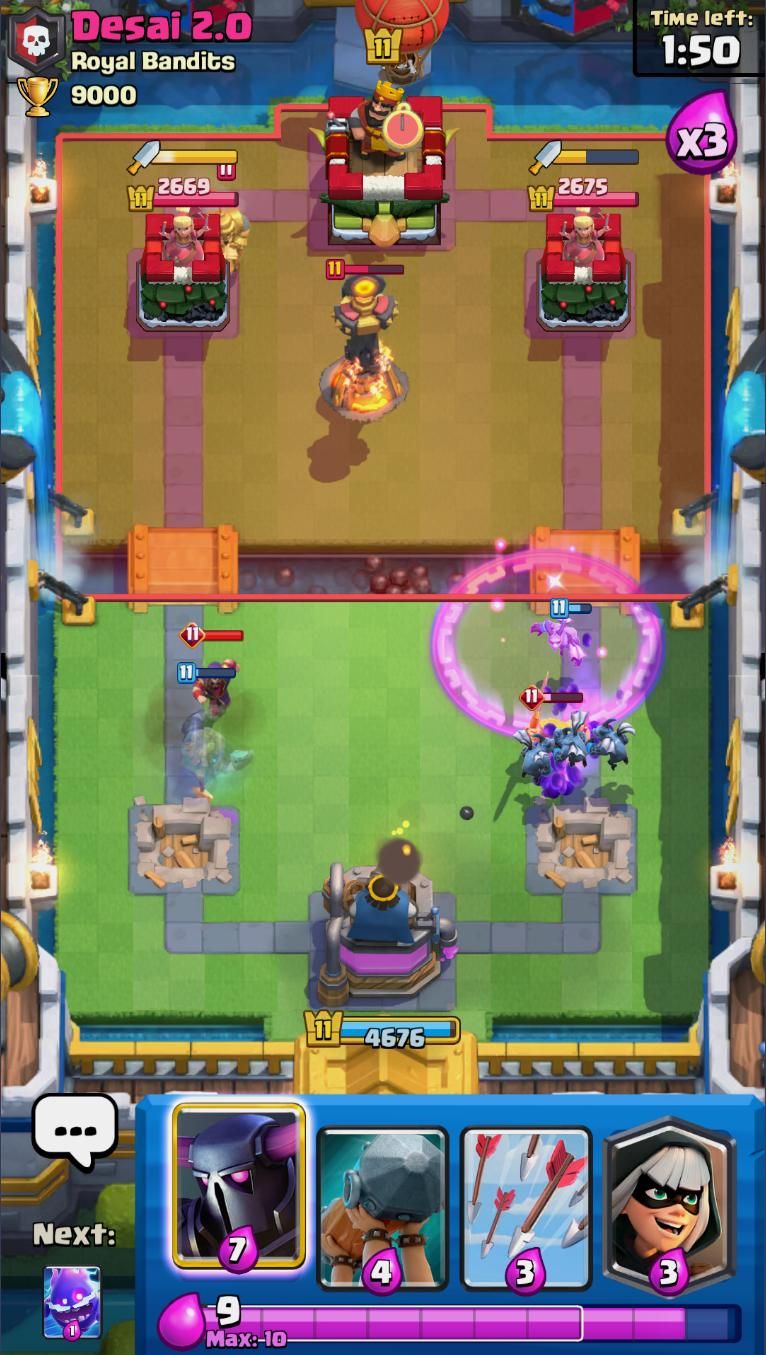ArrowDeck: (454, 1094, 599, 1297)
Balloon: (351, 0, 452, 84)
BanditDeck: (597, 1094, 741, 1296)
BattleRamDeck: (313, 1094, 456, 1293)
DaggerDuchess: (556, 204, 614, 266), (160, 207, 210, 266)
Daggers: (129, 140, 239, 179), (530, 139, 641, 171)
ElectroSpiritNext: (40, 1263, 104, 1341)
Elixir: (201, 1296, 746, 1351)
EnemyTower: (534, 210, 634, 336), (136, 209, 233, 331)
EvoBarbarian: (521, 686, 583, 731)
EvoWizard: (181, 621, 244, 716)
Inferno: (320, 257, 411, 426)
KingTower: (306, 80, 460, 254)
MyKingHP: (306, 1009, 461, 1050)
MyKingTower: (314, 860, 460, 1007)
MyMinion: (530, 599, 596, 669), (589, 716, 636, 771), (551, 710, 591, 767), (516, 730, 556, 781)
MyPrincessTowerBrocken: (131, 800, 243, 897), (529, 801, 639, 891)
MyRoyaleGhost: (174, 661, 254, 790)
PekkaDeck: (166, 1093, 311, 1293)
Prince: (210, 161, 256, 277)
Rage: (433, 550, 660, 737)
TowerPrincessHP: (530, 176, 640, 211), (127, 177, 240, 211)
